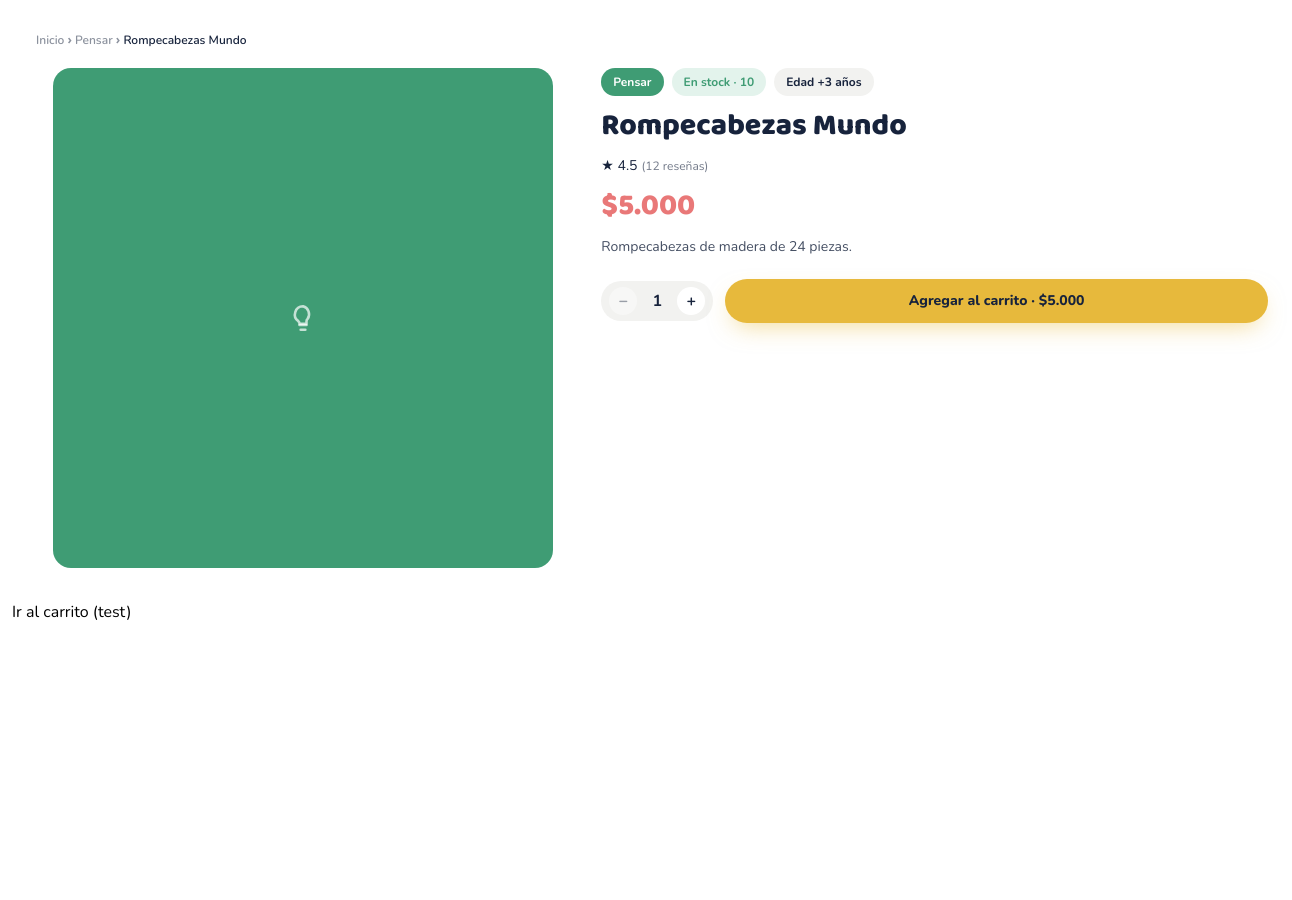
Scenario: integración: agregar al carrito › agrega un producto desde el detalle y aparece en /carrito
Click the button "Agregar al carrito · $5.000": (997, 301) [725,279,1268,323]
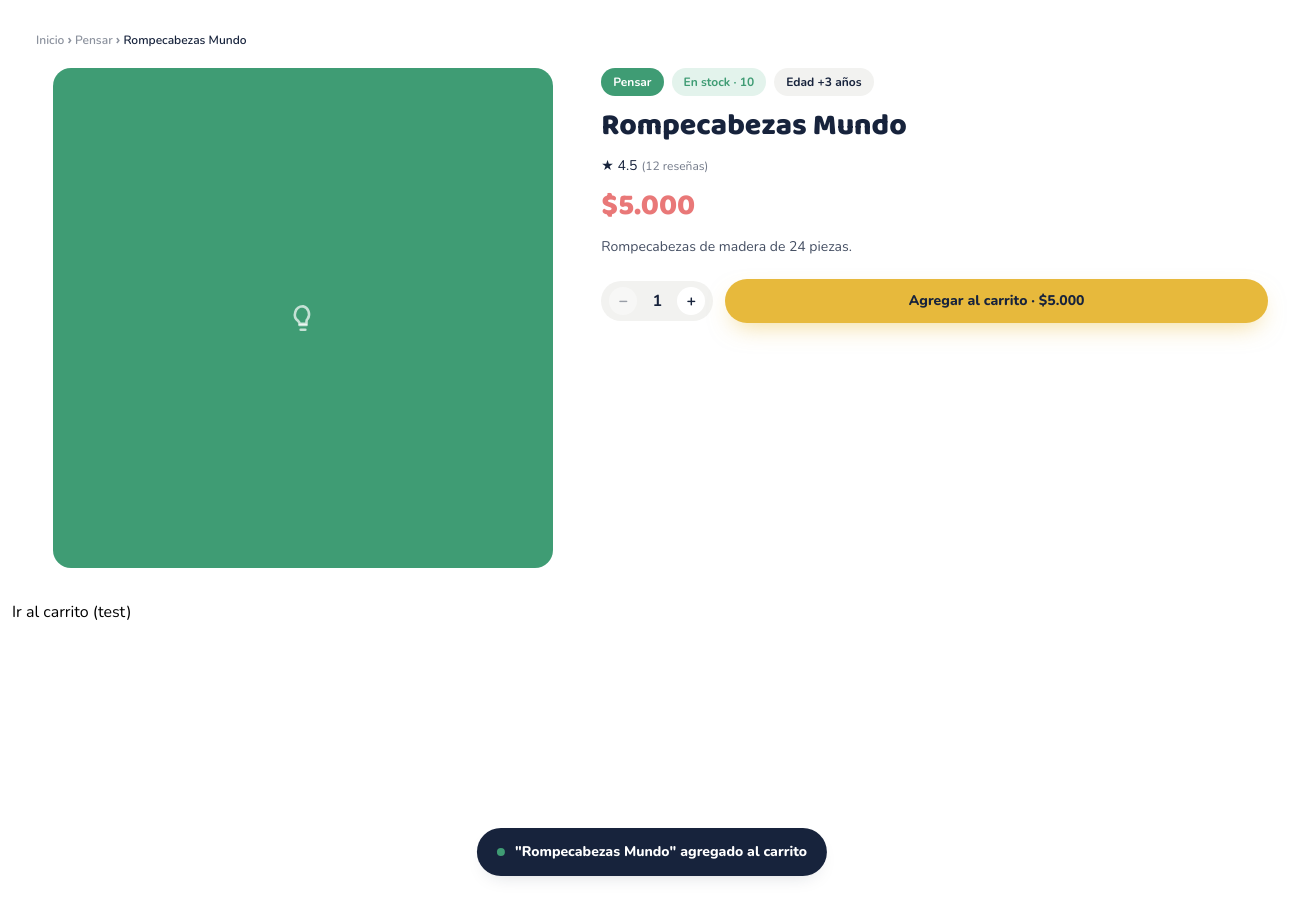
Now the text "\"Rompecabezas Mundo\" agregado al carrito" is shown, box [515,842,807,862]
# Navega al carrito y confirma que el producto está ahí, con su precio
Click the link "Ir al carrito (test)": (72, 612) [12,601,132,623]
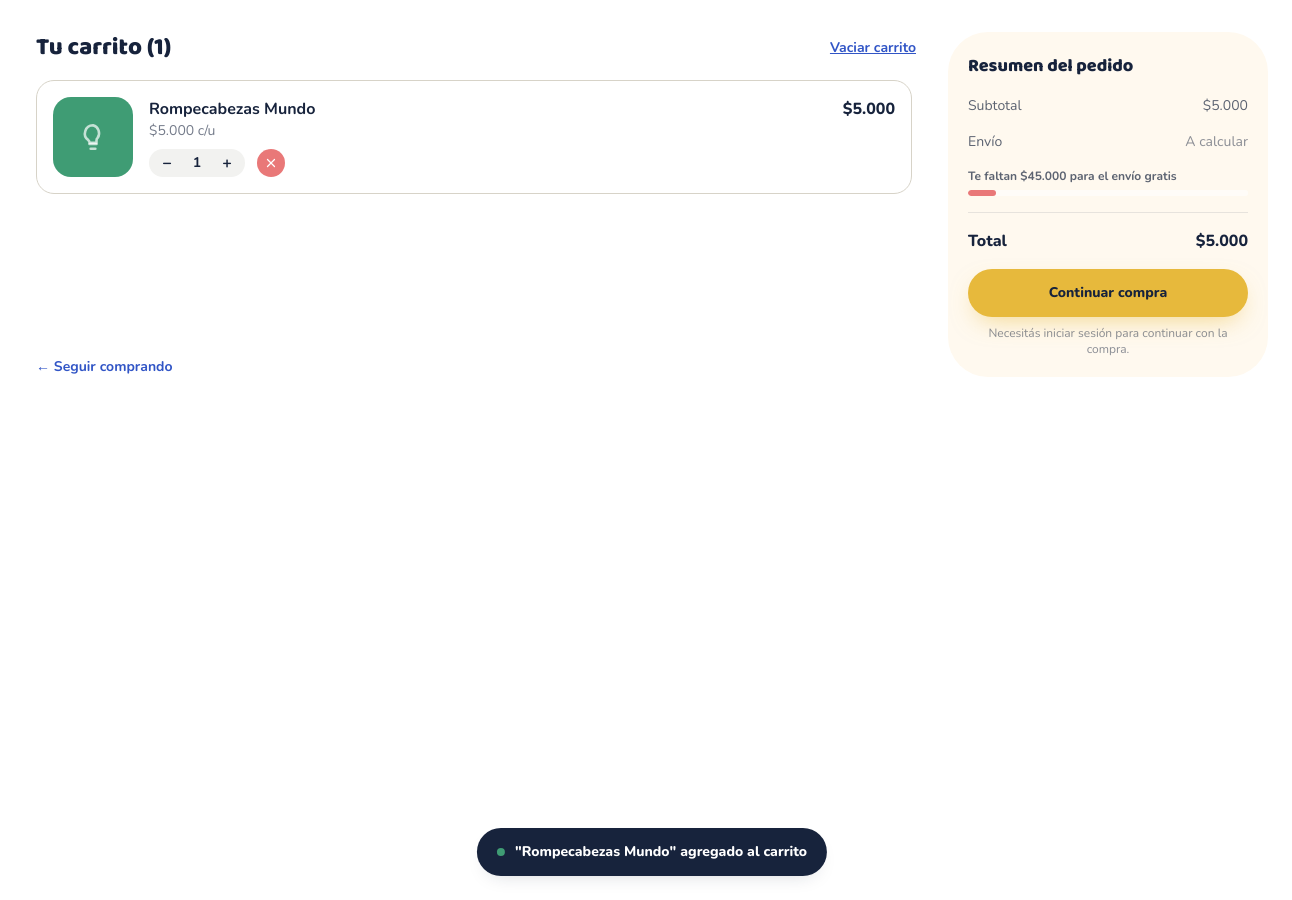
Expected: the text "Rompecabezas Mundo" is shown, [149,97,315,121]
Now the heading "Tu carrito (1)" is shown, box [36,32,171,64]
